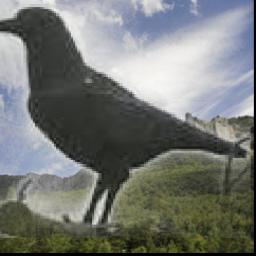Crow: (0, 5, 251, 239)
